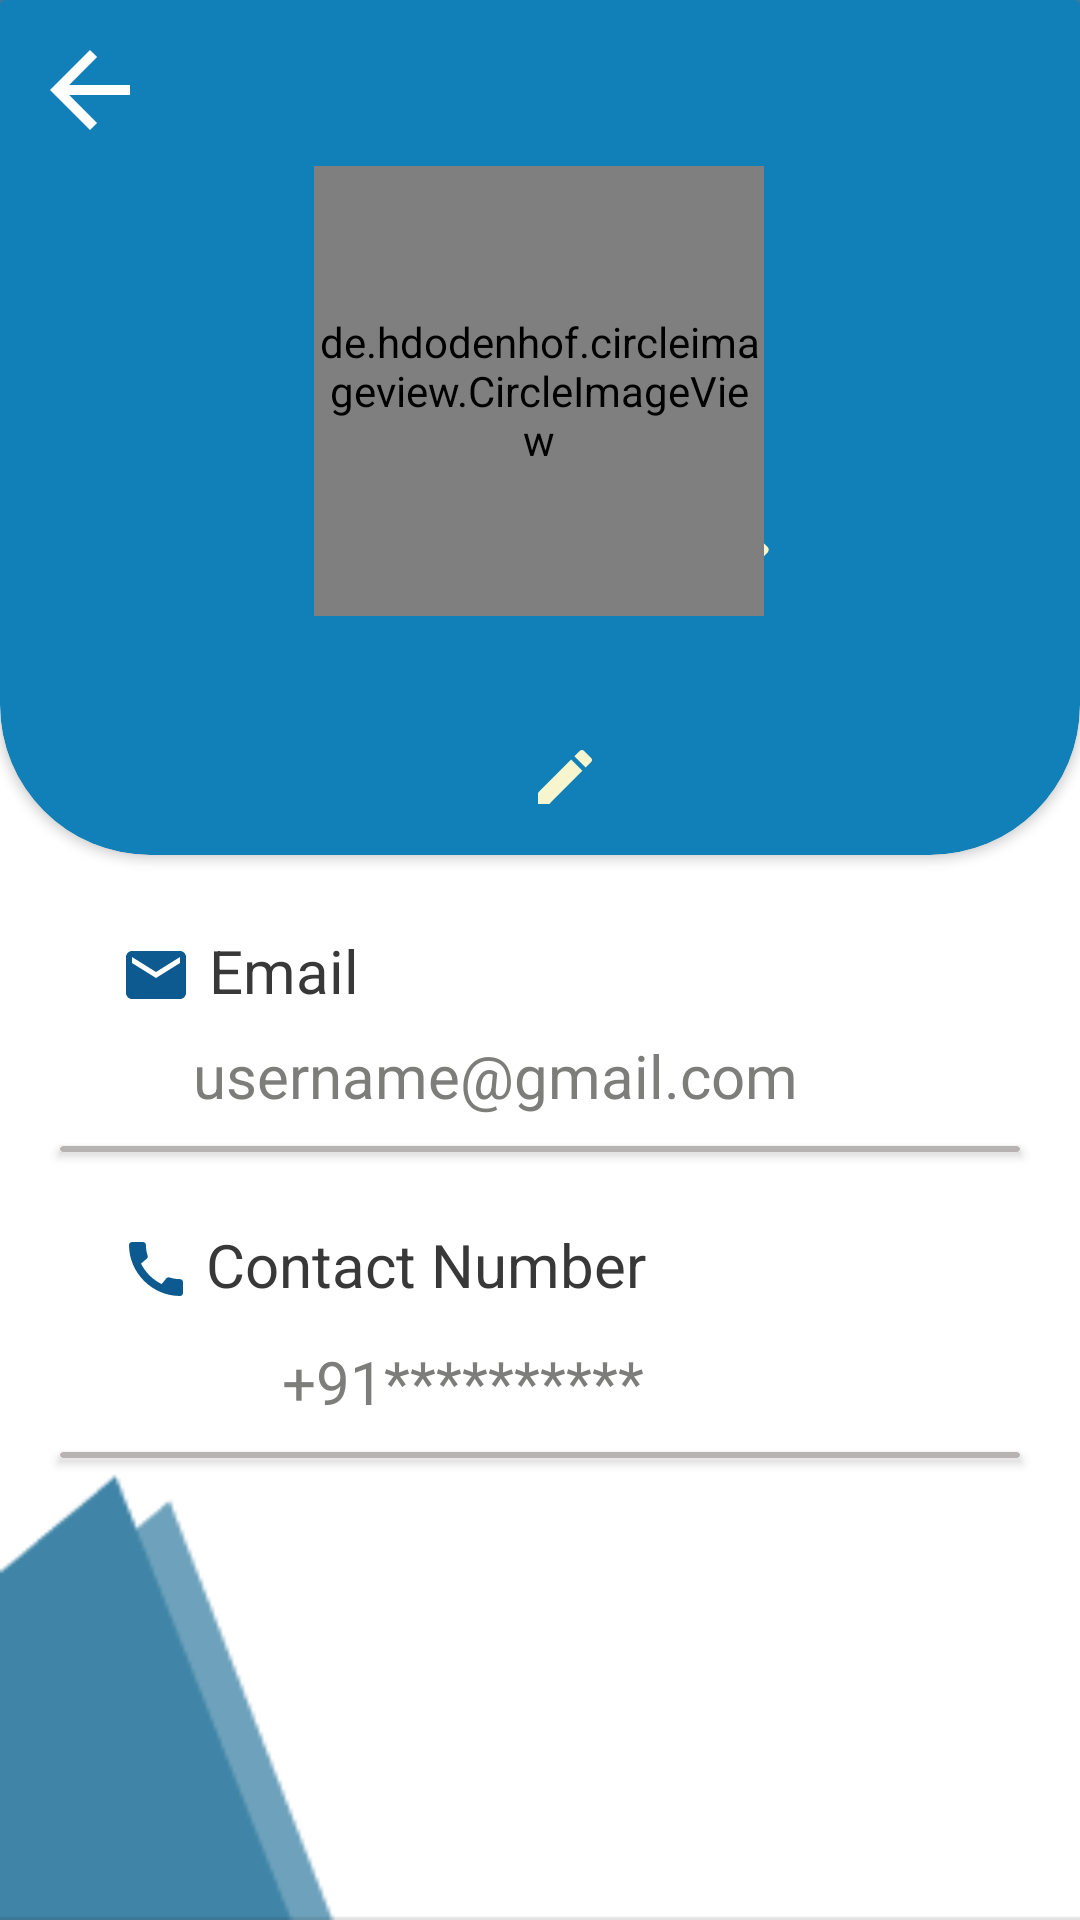

Locate icon controls on the screen. Image size 1080 x 1920, boxes as region(x1, y1, x2, y2).
arrow back: region(50, 50, 130, 130)
call: region(129, 1242, 183, 1296)
